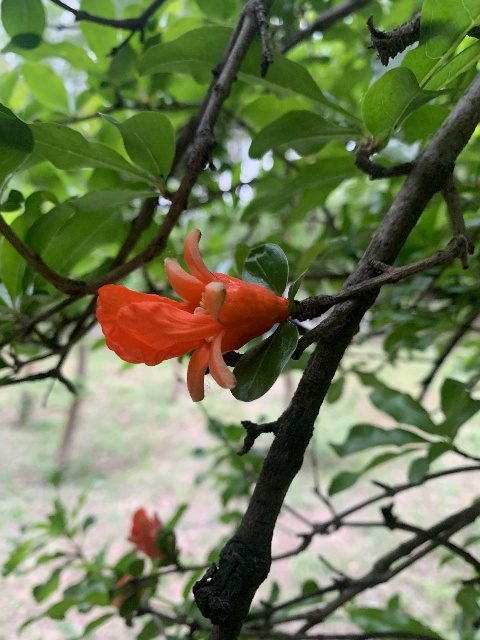flower: (95, 229, 291, 401), (128, 509, 164, 559)
